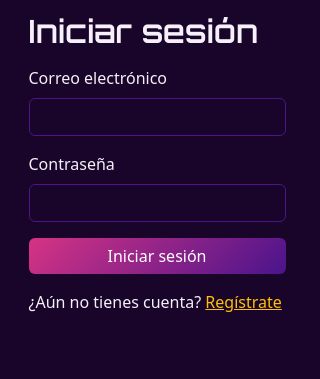
Scenario: <Acceso /> — login y registro (ms-usuarios) › RENDERIZADO CONDICIONAL: los errores solo aparecen al enviar un formulario inválido
This screenshot has width=320, height=379.
What coordinates should you click on to do the following:
click the button "Iniciar sesión"
I would click on:
 (157, 256)
Its box is [28,238,286,274].
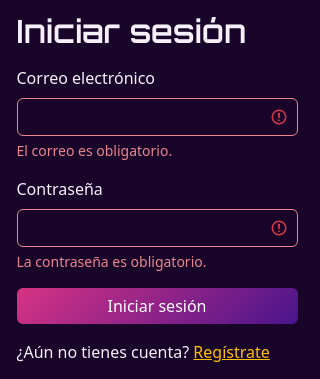
Result: the message "El correo es obligatorio." is shown at [16,141,172,160]
